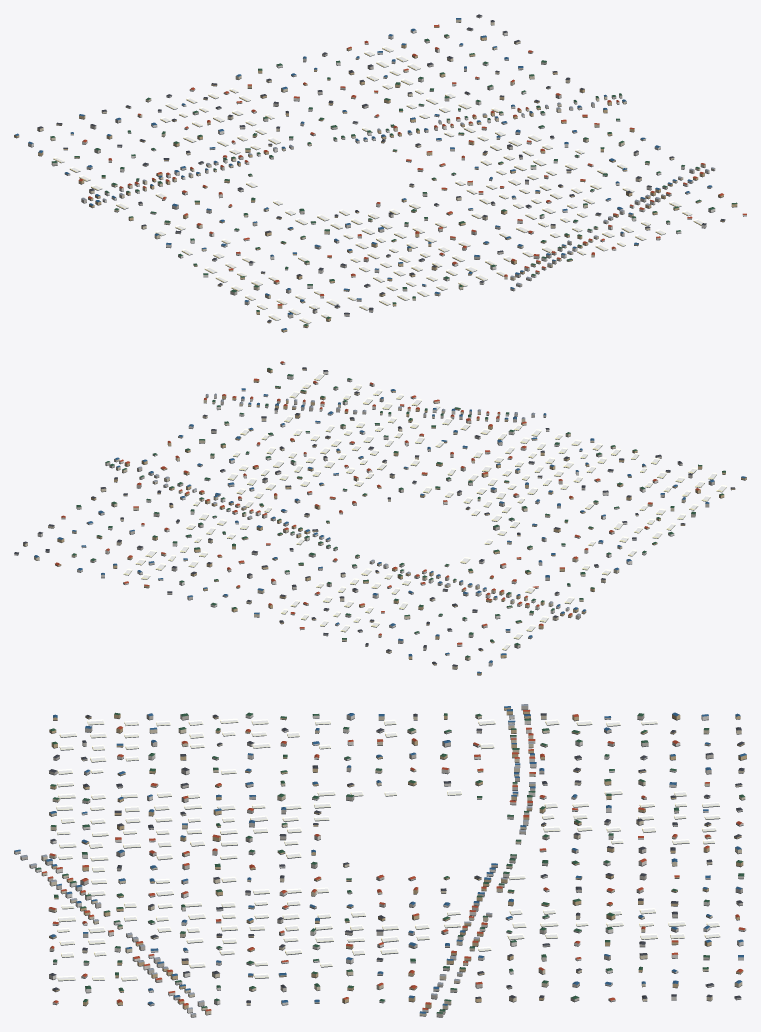
Rendered from buildings_T_W06_N06.glb.
The picture shows the model from 3 angles, top to bottom: view 1: azimuth 30°, elevation 25°; view 2: azimuth 150°, elevation 25°; view 3: azimuth 270°, elevation 25°; orthographic projection. The views are drawn at different scales.
Parts seen in each view (by area): view 1: T_W06_N06_slope_seating_foundations, T_W06_N06_roofs_agri_greenhouse_arch, T_W06_N06_walls_wall_french_ochre_villa, T_W06_N06_walls_wall_pastel_sand_gray, T_W06_N06_walls_wall_dalat_cream_stucco, T_W06_N06_walls_wall_modern_warm_white, T_W06_N06_roofs_roof_pine_green_hip, T_W06_N06_roofs_roof_highland_blue_gable, T_W06_N06_roofs_roof_terracotta_gable, T_W06_N06_roofs_roof_slate_French_villa_hip; view 2: T_W06_N06_slope_seating_foundations, T_W06_N06_roofs_agri_greenhouse_arch, T_W06_N06_walls_wall_french_ochre_villa, T_W06_N06_walls_wall_pastel_sand_gray, T_W06_N06_walls_wall_dalat_cream_stucco, T_W06_N06_walls_wall_modern_warm_white, T_W06_N06_roofs_roof_pine_green_hip, T_W06_N06_roofs_roof_highland_blue_gable, T_W06_N06_roofs_roof_terracotta_gable, T_W06_N06_roofs_roof_slate_French_villa_hip; view 3: T_W06_N06_slope_seating_foundations, T_W06_N06_roofs_agri_greenhouse_arch, T_W06_N06_walls_wall_french_ochre_villa, T_W06_N06_walls_wall_pastel_sand_gray, T_W06_N06_walls_wall_dalat_cream_stucco, T_W06_N06_walls_wall_modern_warm_white, T_W06_N06_roofs_roof_pine_green_hip, T_W06_N06_roofs_roof_highland_blue_gable, T_W06_N06_roofs_roof_terracotta_gable, T_W06_N06_roofs_roof_slate_French_villa_hip, T_W06_N06_roofs_roof_zinc_silver_gable.
Boxes of the visible parts, x1,y1,x2,y2 form: T_W06_N06_slope_seating_foundations: [14, 17, 746, 332]; T_W06_N06_roofs_agri_greenhouse_arch: [53, 46, 705, 323]; T_W06_N06_walls_wall_french_ochre_villa: [14, 26, 737, 332]; T_W06_N06_walls_wall_pastel_sand_gray: [51, 16, 715, 317]; T_W06_N06_walls_wall_dalat_cream_stucco: [37, 19, 705, 308]; T_W06_N06_walls_wall_modern_warm_white: [28, 30, 746, 297]; T_W06_N06_roofs_roof_pine_green_hip: [50, 34, 737, 325]; T_W06_N06_roofs_roof_highland_blue_gable: [15, 18, 711, 330]; T_W06_N06_roofs_roof_terracotta_gable: [79, 24, 746, 305]; T_W06_N06_roofs_roof_slate_French_villa_hip: [37, 14, 725, 321]; T_W06_N06_slope_seating_foundations: [14, 363, 746, 675]; T_W06_N06_roofs_agri_greenhouse_arch: [123, 373, 726, 649]; T_W06_N06_walls_wall_french_ochre_villa: [55, 368, 746, 675]; T_W06_N06_walls_wall_pastel_sand_gray: [14, 382, 714, 650]; T_W06_N06_walls_wall_dalat_cream_stucco: [23, 392, 685, 669]; T_W06_N06_walls_wall_modern_warm_white: [37, 362, 674, 665]; T_W06_N06_roofs_roof_pine_green_hip: [72, 368, 725, 657]; T_W06_N06_roofs_roof_highland_blue_gable: [34, 388, 746, 673]; T_W06_N06_roofs_roof_terracotta_gable: [55, 361, 700, 644]; T_W06_N06_roofs_roof_slate_French_villa_hip: [14, 367, 735, 666]; T_W06_N06_slope_seating_foundations: [14, 709, 746, 1017]; T_W06_N06_roofs_agri_greenhouse_arch: [56, 718, 720, 980]; T_W06_N06_walls_wall_french_ochre_villa: [49, 707, 746, 1009]; T_W06_N06_walls_wall_pastel_sand_gray: [14, 706, 742, 1017]; T_W06_N06_walls_wall_dalat_cream_stucco: [41, 715, 745, 1015]; T_W06_N06_walls_wall_modern_warm_white: [35, 714, 746, 1012]; T_W06_N06_roofs_roof_pine_green_hip: [35, 712, 744, 1013]; T_W06_N06_roofs_roof_highland_blue_gable: [15, 706, 746, 1013]; T_W06_N06_roofs_roof_terracotta_gable: [42, 709, 744, 1011]; T_W06_N06_roofs_roof_slate_French_villa_hip: [49, 713, 744, 1002]; T_W06_N06_roofs_roof_zinc_silver_gable: [21, 704, 535, 1014].
Bounding box in the file's own units: 1908 × 43.73 × 1862.
